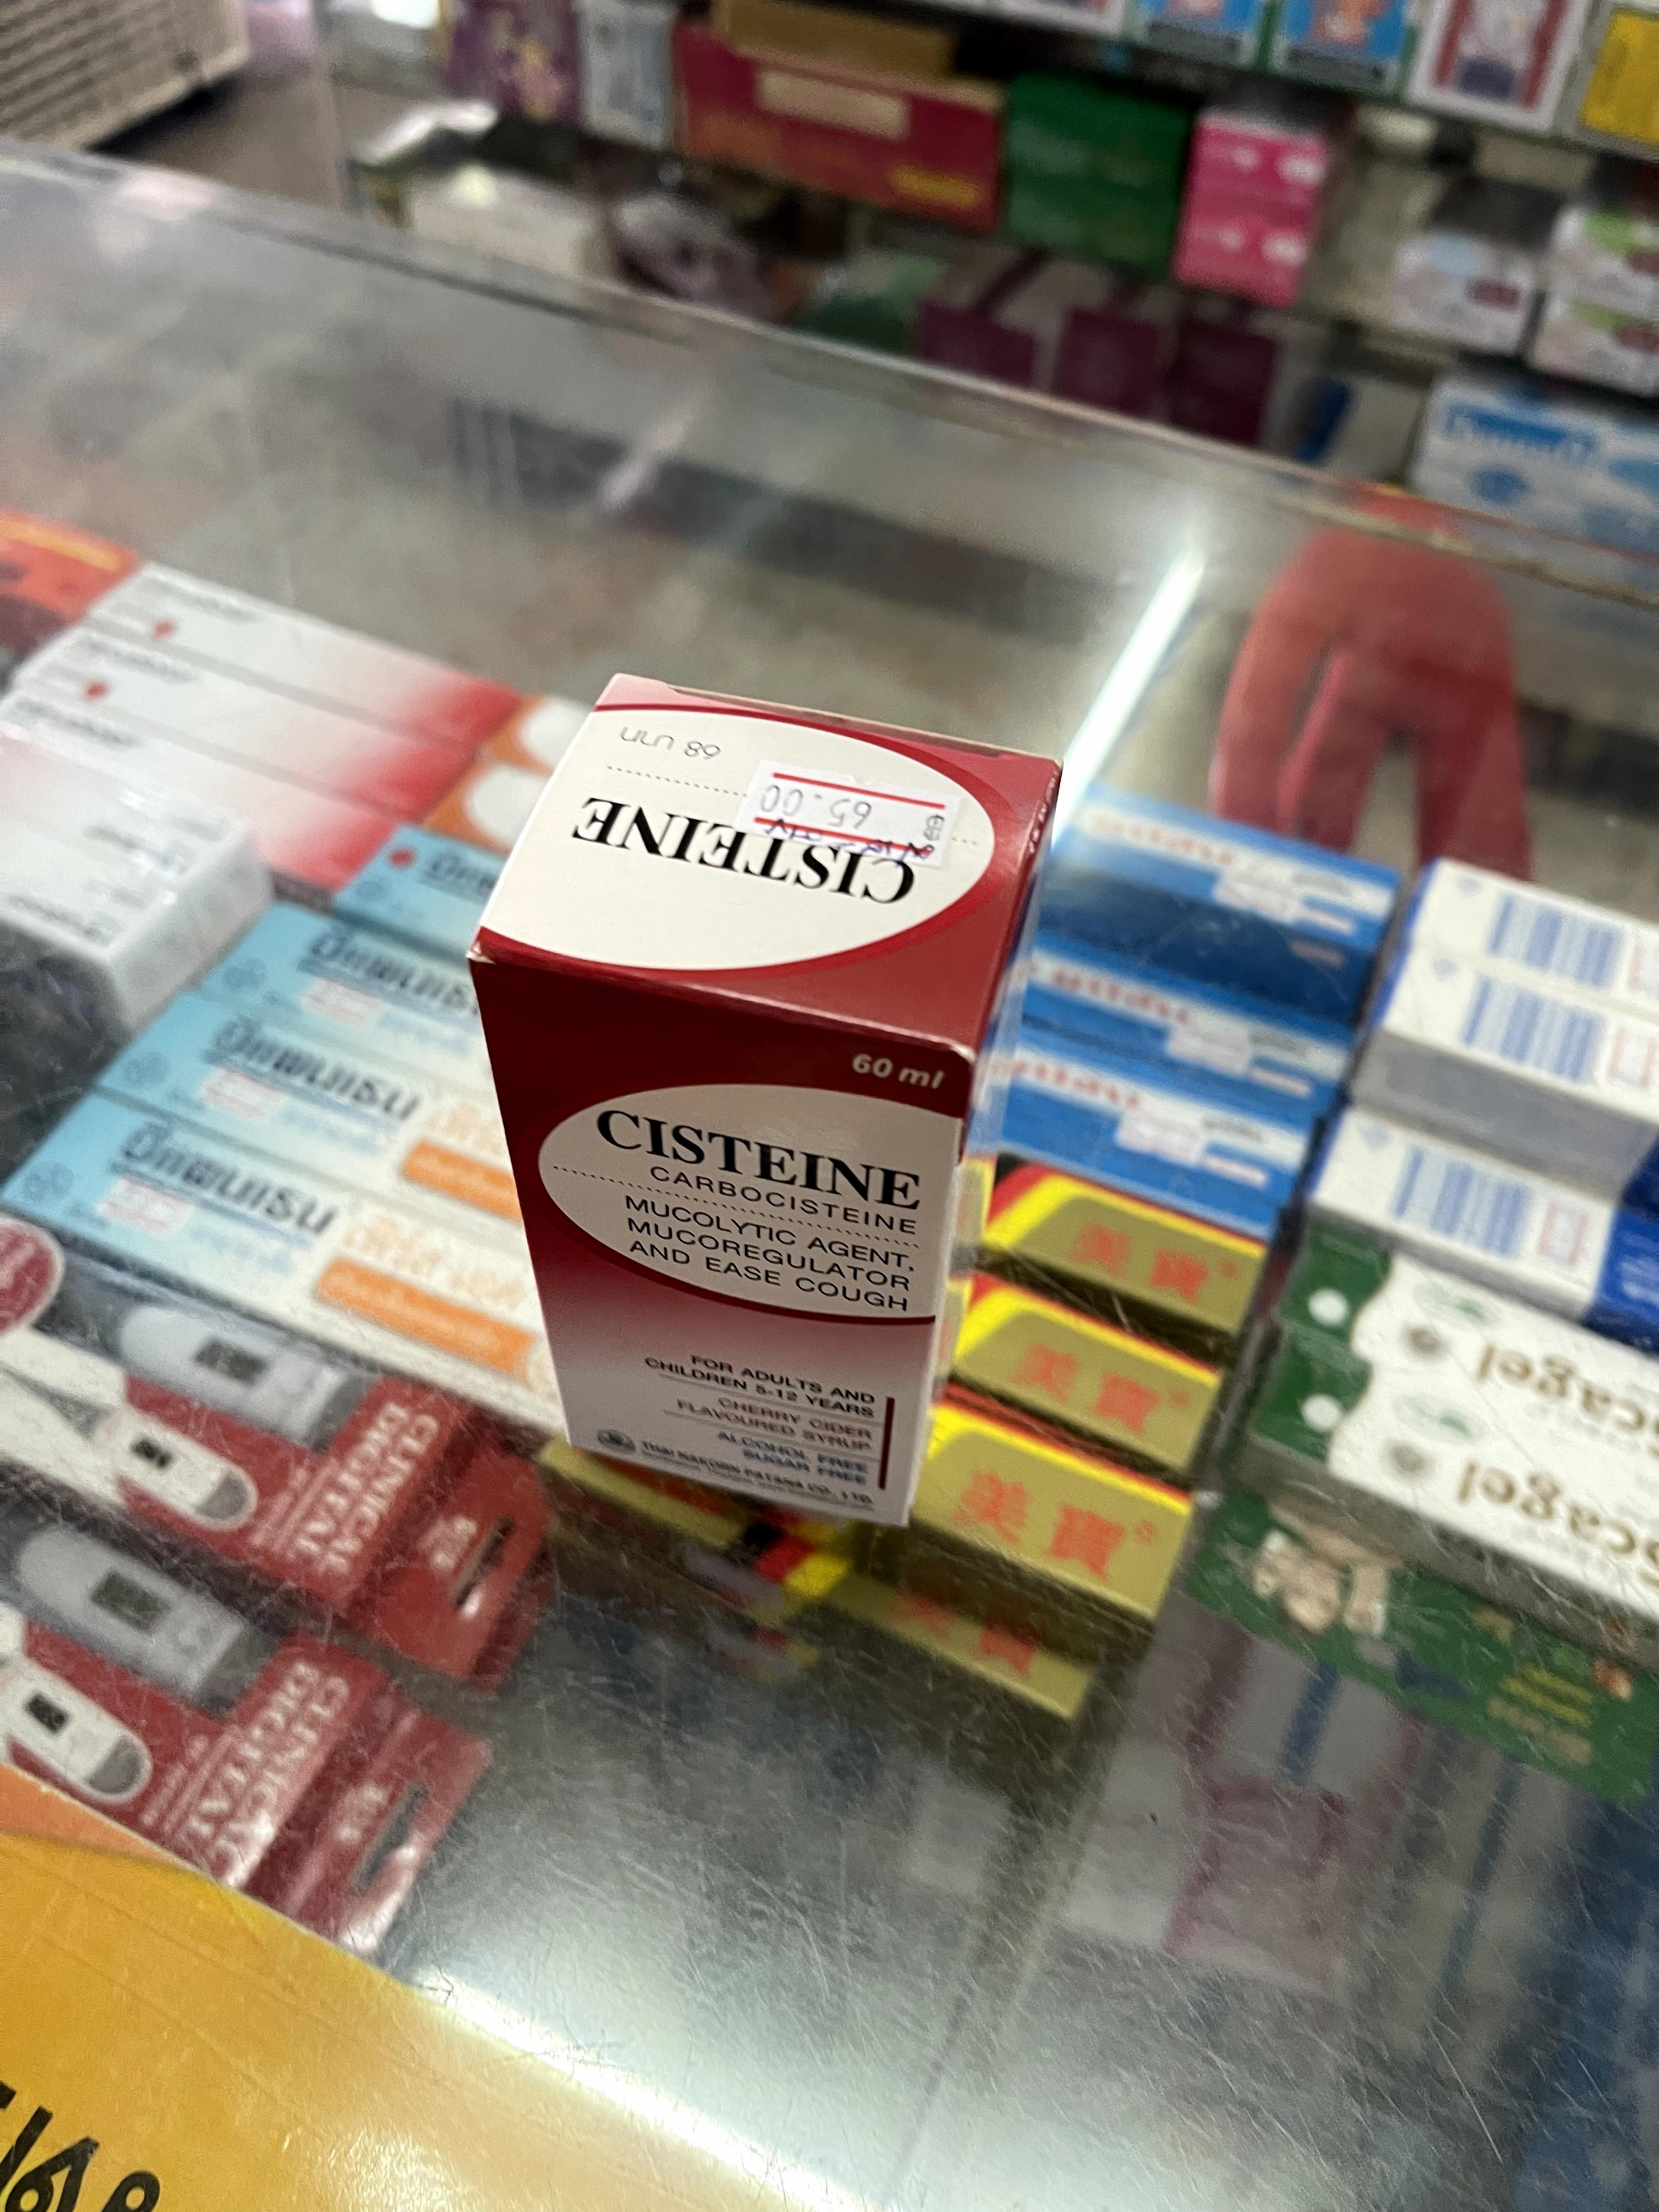Cisteine: (479, 678, 1053, 1533)
